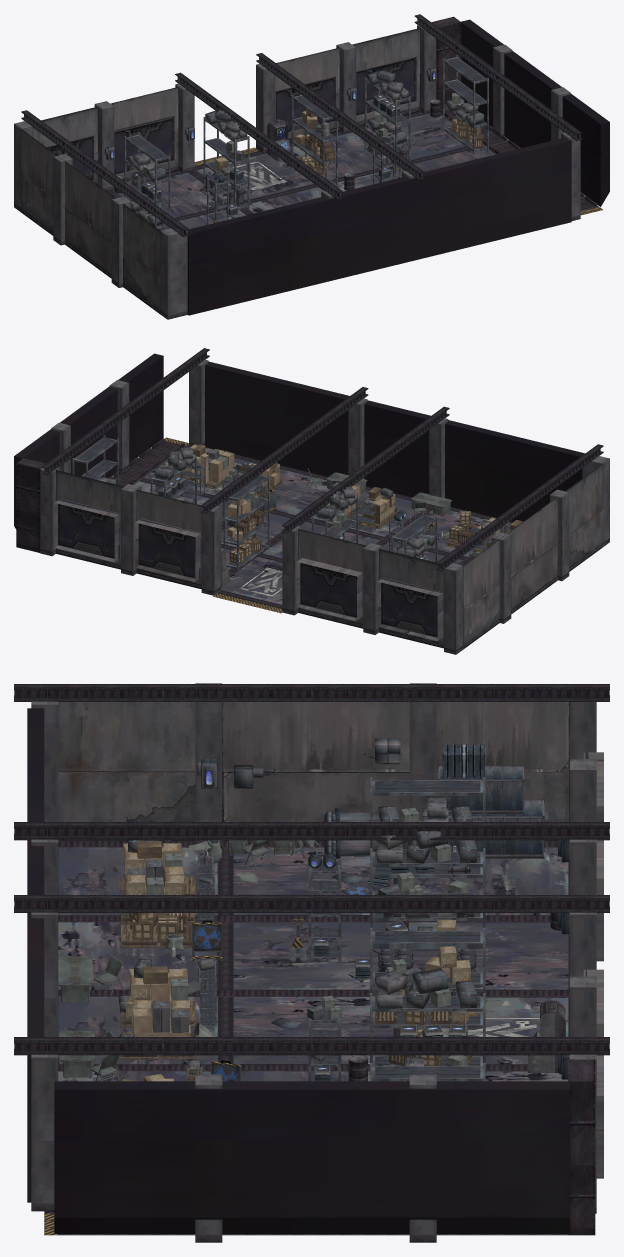
Rendered from SHIPPING_ALL.fbx.
3 views of the same model, one above another, from view 1: azimuth 30°, elevation 25°; view 2: azimuth 150°, elevation 25°; view 3: azimuth 270°, elevation 25° (orthographic). The views are drawn at different scales.
Visible parts, largest first — view 1: SHIPING_AREA; view 2: SHIPING_AREA; view 3: SHIPING_AREA.
Boxes of the visible parts, bbox=[...] form: SHIPING_AREA: bbox=[14, 14, 609, 319]; SHIPING_AREA: bbox=[14, 348, 609, 654]; SHIPING_AREA: bbox=[14, 683, 609, 1242].
Bounding box in the file's own units: 10313 × 1981 × 6388.
